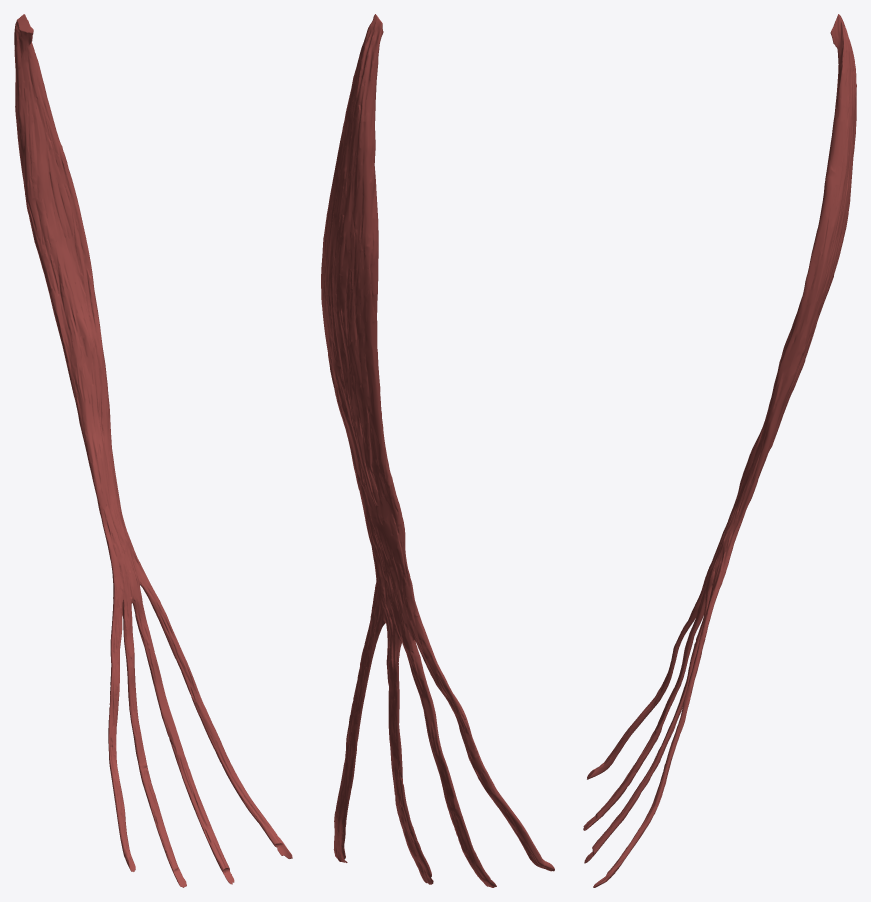
The model's file is FMA38502.glb.
3 views of the same model, side by side, from view 1: azimuth 30°, elevation 25°; view 2: azimuth 150°, elevation 25°; view 3: azimuth 270°, elevation 25° (orthographic). The views are drawn at different scales.
Visible parts, largest first — view 1: FMA38502; view 2: FMA38502; view 3: FMA38502.
Part boxes in pixels (left/top/right/bottom): FMA38502: left=14, top=14, right=292, bottom=887; FMA38502: left=321, top=14, right=554, bottom=887; FMA38502: left=583, top=14, right=856, bottom=887.
Bounding box in the file's own units: 0.0825 × 0.3817 × 0.1172.
